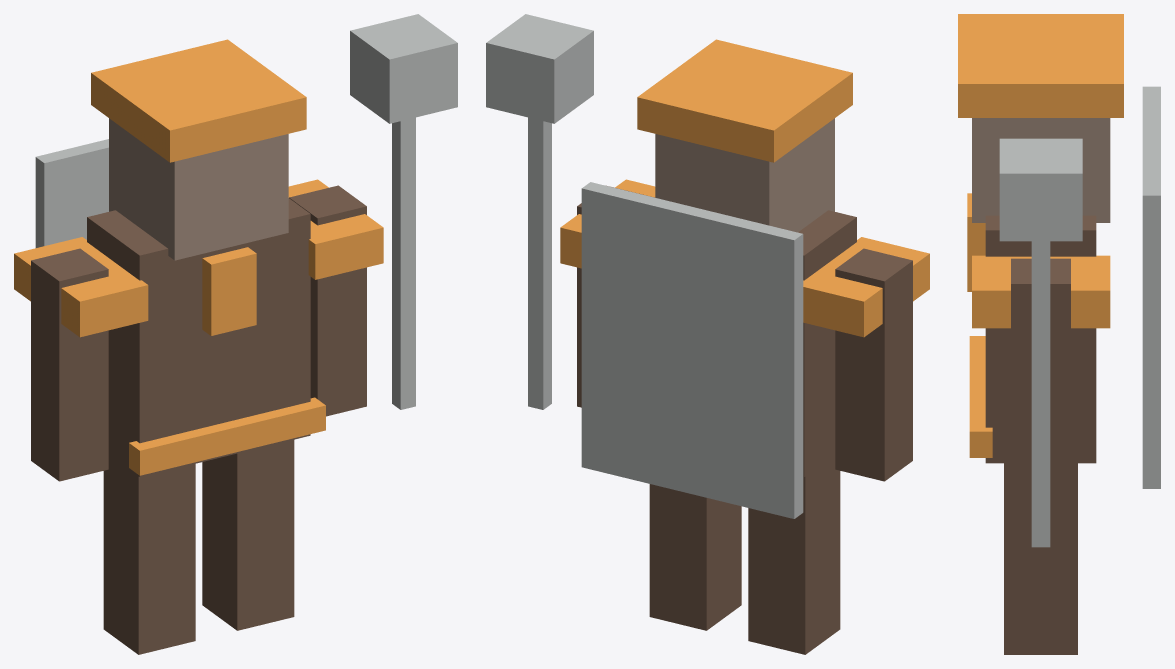
File: 11_cassian_spirebound_sentinel_from_echo.glb
The picture shows the model from 3 angles, left to right: view 1: azimuth 30°, elevation 25°; view 2: azimuth 150°, elevation 25°; view 3: azimuth 270°, elevation 25°; orthographic projection. The views are drawn at different scales.
Parts seen in each view (by area): view 1: Cassian Spirebound, Sentinel from Echo; view 2: Cassian Spirebound, Sentinel from Echo; view 3: Cassian Spirebound, Sentinel from Echo.
Boxes of the visible parts, box(x1,y1,x2,y2) form: Cassian Spirebound, Sentinel from Echo: box(14, 14, 457, 654); Cassian Spirebound, Sentinel from Echo: box(486, 14, 929, 654); Cassian Spirebound, Sentinel from Echo: box(958, 14, 1160, 654).
Bounding box in the file's own units: 1.06 × 1.39 × 0.4523.
